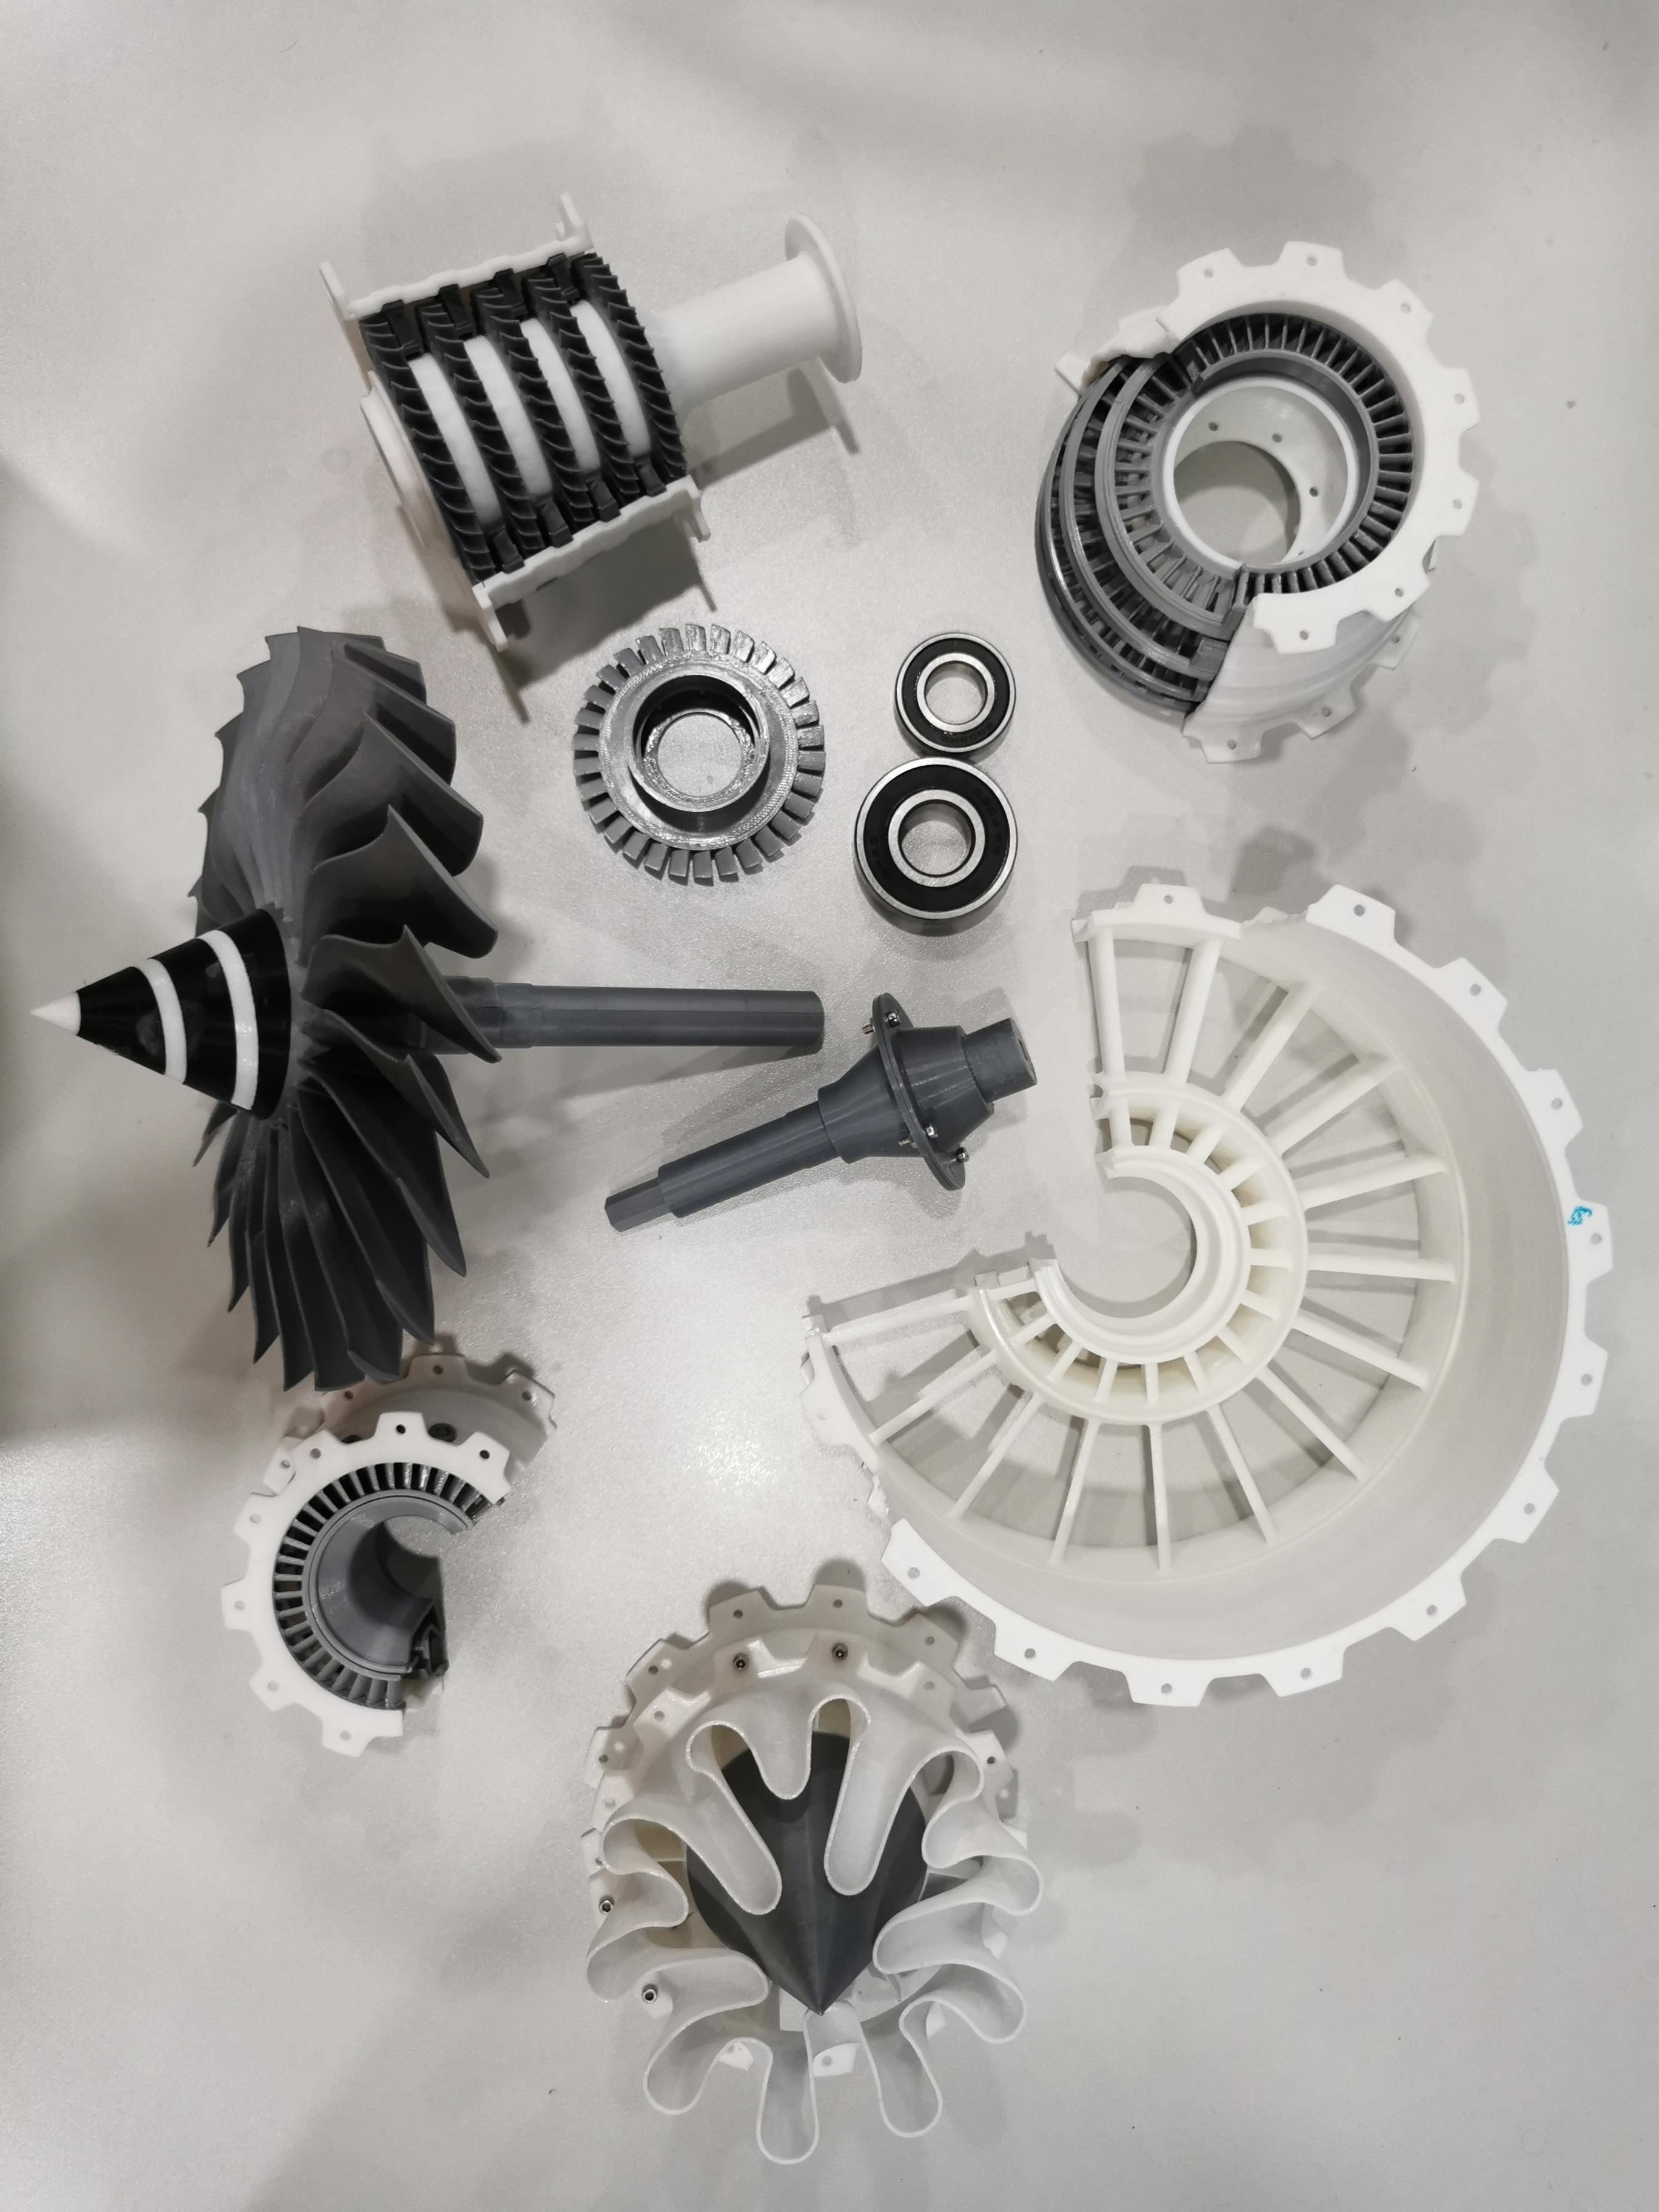Bearing-6003: (885, 624, 1025, 759)
Bearing-6204: (850, 754, 1025, 937)
Combustion Section: (211, 1343, 586, 1761)
Fan Casing and Support: (784, 866, 1626, 1717)
Fan and Low Pressure Shaft: (23, 624, 828, 1402)
HPT Section: (554, 617, 843, 892)
High Pressure Spool: (317, 185, 880, 660)
LPT Section: (1014, 221, 1509, 768)
Low Pressure Spool: (589, 975, 1044, 1252)
Nozzle Section: (559, 1557, 1051, 2186)
